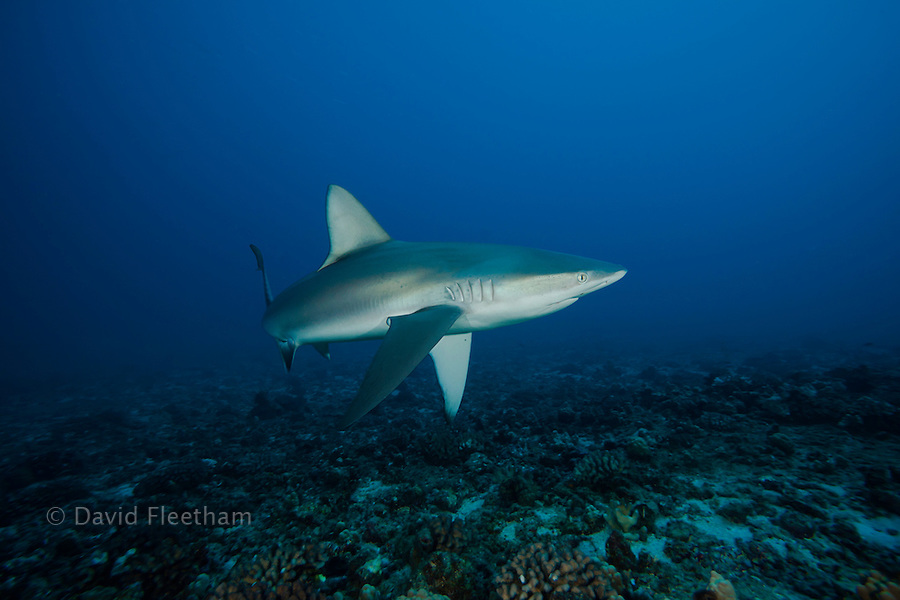Carcharhinus_amblyrhynchos: (216, 167, 637, 428)
